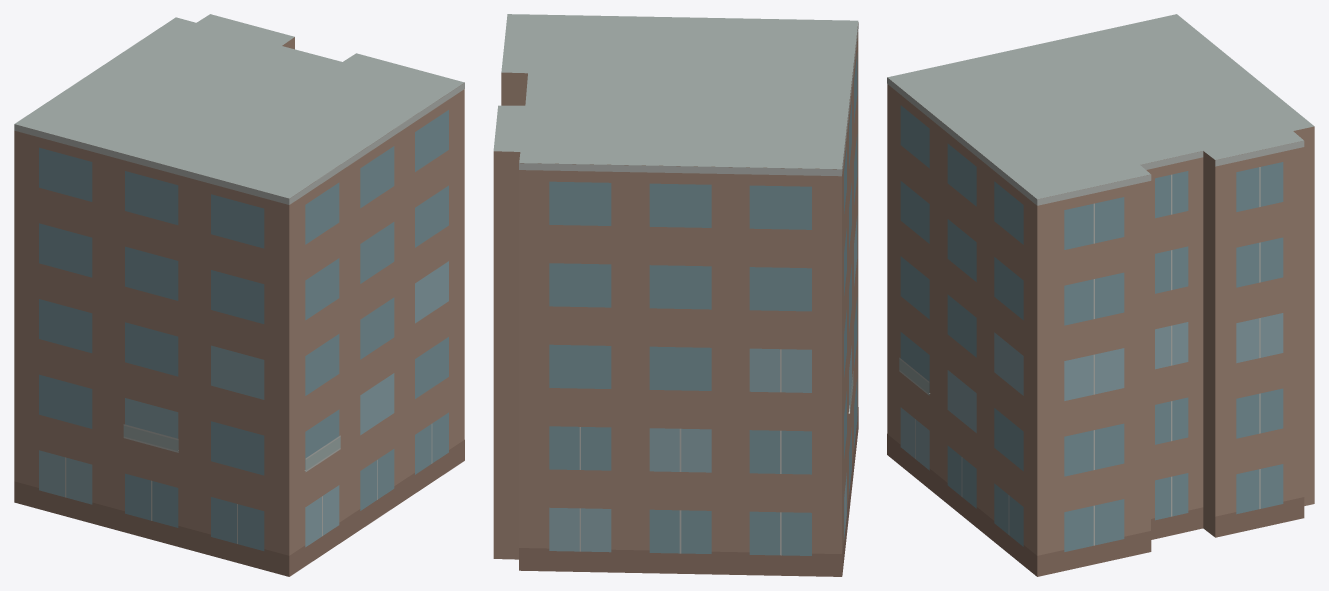
File: survey-upis-32841637.glb
3 views of the same model, side by side, from view 1: azimuth 30°, elevation 25°; view 2: azimuth 150°, elevation 25°; view 3: azimuth 270°, elevation 25° (orthographic). The views are drawn at different scales.
Parts seen in each view (by area): view 1: survey-upis-32841637.tmp; view 2: survey-upis-32841637.tmp; view 3: survey-upis-32841637.tmp.
Boxes of the visible parts, <box> form: survey-upis-32841637.tmp: <box>14,14,464,576</box>; survey-upis-32841637.tmp: <box>493,14,858,576</box>; survey-upis-32841637.tmp: <box>887,14,1314,576</box>.
Bounding box in the file's own units: 14.96 × 14.2 × 14.58.
